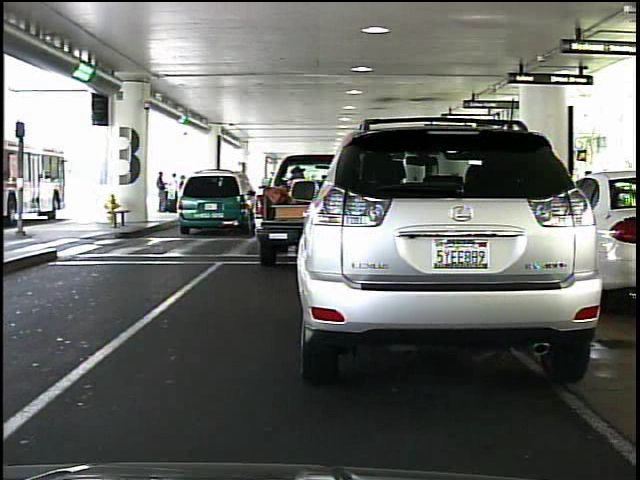person: (152, 164, 173, 216)
